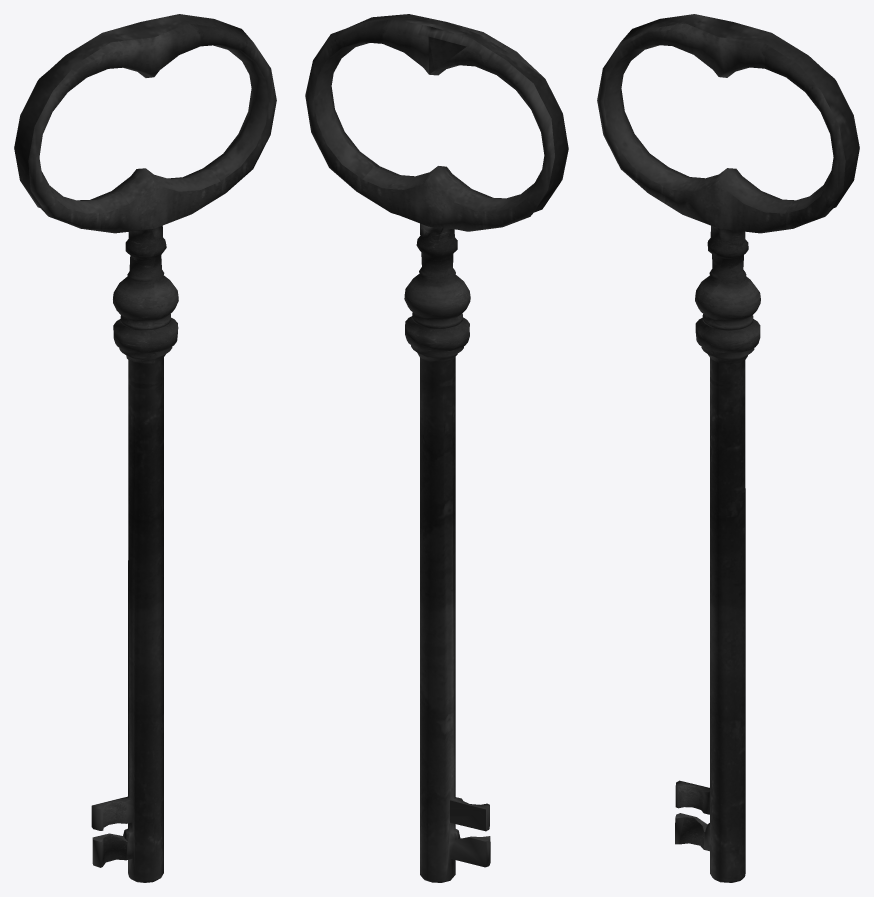
The model's file is key_03.glb.
The picture shows the model from 3 angles, left to right: view 1: azimuth 30°, elevation 25°; view 2: azimuth 150°, elevation 25°; view 3: azimuth 330°, elevation 25°; orthographic projection.
Parts seen in each view (by area): view 1: Key; view 2: Key; view 3: Key.
Part boxes in pixels (left/top/right/bottom): Key: left=14, top=14, right=276, bottom=882; Key: left=305, top=14, right=568, bottom=882; Key: left=597, top=14, right=859, bottom=882.
Bounding box in the file's own units: 0.0245 × 0.08 × 0.00539.
Materials: 1 (1 with a texture image).
